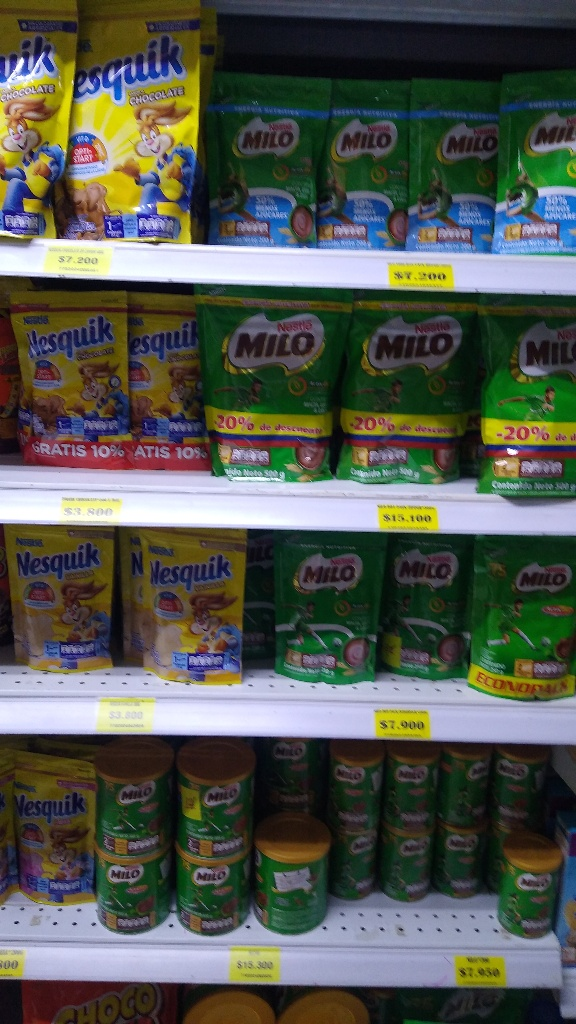COL0170203DYP25000: (248, 530, 375, 685)
COL0170203DYP50000: (473, 533, 576, 703)
COL0170203LAT20000: (327, 750, 381, 832)
COL0170203LAT40000: (94, 850, 174, 938)
COL0170205DYP20000: (204, 72, 312, 247)
COL0170305DYP20000: (6, 744, 94, 908)
COL0170306DYP20000: (4, 523, 118, 669)
